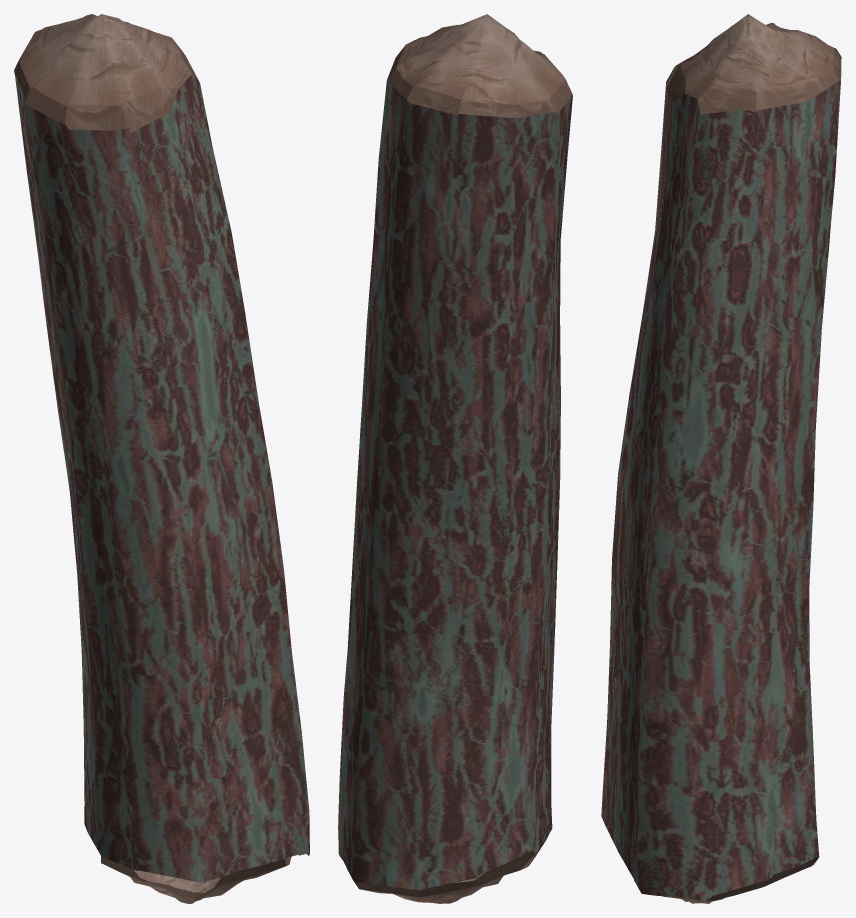
3 views of the same model, side by side, from view 1: azimuth 30°, elevation 25°; view 2: azimuth 150°, elevation 25°; view 3: azimuth 270°, elevation 25° (orthographic). The views are drawn at different scales.
Visible parts, largest first — view 1: SM_MapleTree_01_quarter_01_LOD0; view 2: SM_MapleTree_01_quarter_01_LOD0; view 3: SM_MapleTree_01_quarter_01_LOD0.
Part boxes in pixels (bbox=[...]): SM_MapleTree_01_quarter_01_LOD0: bbox=[14, 14, 309, 903]; SM_MapleTree_01_quarter_01_LOD0: bbox=[338, 14, 572, 903]; SM_MapleTree_01_quarter_01_LOD0: bbox=[601, 14, 841, 903].
Bounding box in the file's own units: 0.7544 × 2.74 × 0.6988.
Materials: 1 (1 with a texture image).
